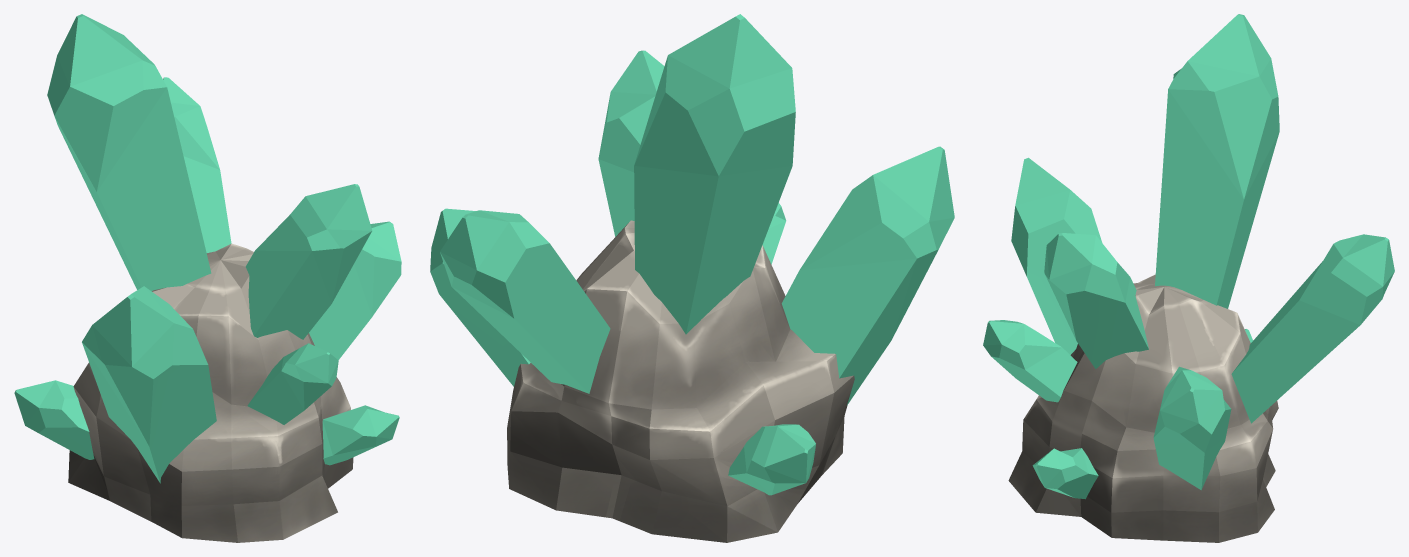
The model's file is Crystal_5_01.fbx.
3 views of the same model, side by side, from view 1: azimuth 30°, elevation 25°; view 2: azimuth 150°, elevation 25°; view 3: azimuth 270°, elevation 25° (orthographic). The views are drawn at different scales.
Visible parts, largest first — view 1: Crystal_5_01; view 2: Crystal_5_01; view 3: Crystal_5_01.
Part boxes in pixels (<box>): Crystal_5_01: <box>14,14,401,542</box>; Crystal_5_01: <box>430,14,954,542</box>; Crystal_5_01: <box>983,14,1394,542</box>.
Size of the model in its own units: 123 by 145 by 126.
2 materials, 1 textured.
